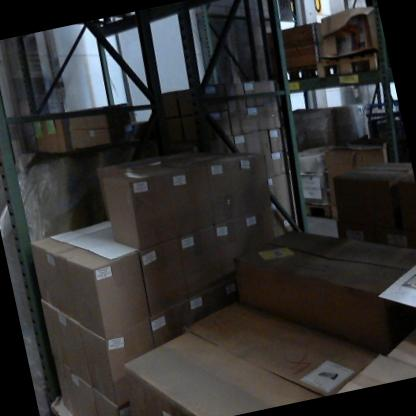pallet: (311, 40, 388, 84), (259, 56, 324, 98), (76, 13, 144, 35), (297, 192, 330, 228), (49, 399, 89, 416)
